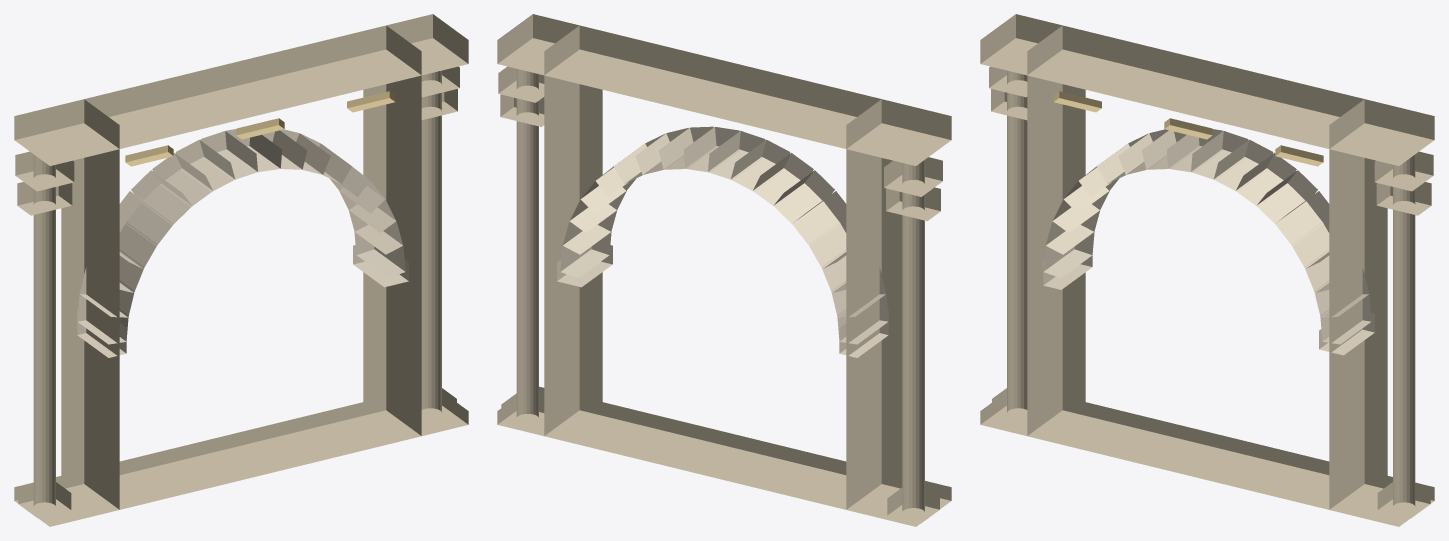
The model's file is renaissance_round_arch.glb.
3 views of the same model, side by side, from view 1: azimuth 30°, elevation 25°; view 2: azimuth 150°, elevation 25°; view 3: azimuth 330°, elevation 25° (orthographic).
Visible parts, largest first — view 1: renaissance_round_arch; view 2: renaissance_round_arch; view 3: renaissance_round_arch.
Boxes of the visible parts, x1,y1,x2,y2 form: renaissance_round_arch: (14, 14, 468, 526); renaissance_round_arch: (497, 14, 951, 526); renaissance_round_arch: (980, 14, 1434, 526).
Size of the model in its own units: 5.2 by 4.48 by 0.835.
